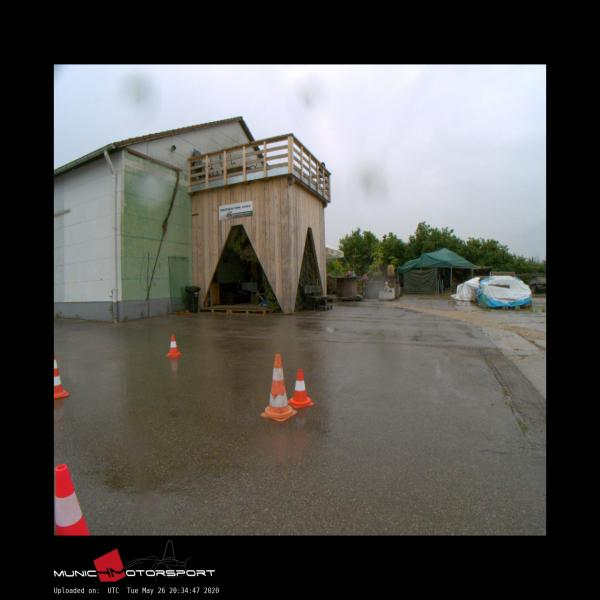large_orange_cone: (261, 354, 295, 422), (54, 352, 68, 398)
orange_cone: (288, 369, 314, 407), (166, 334, 182, 356)
